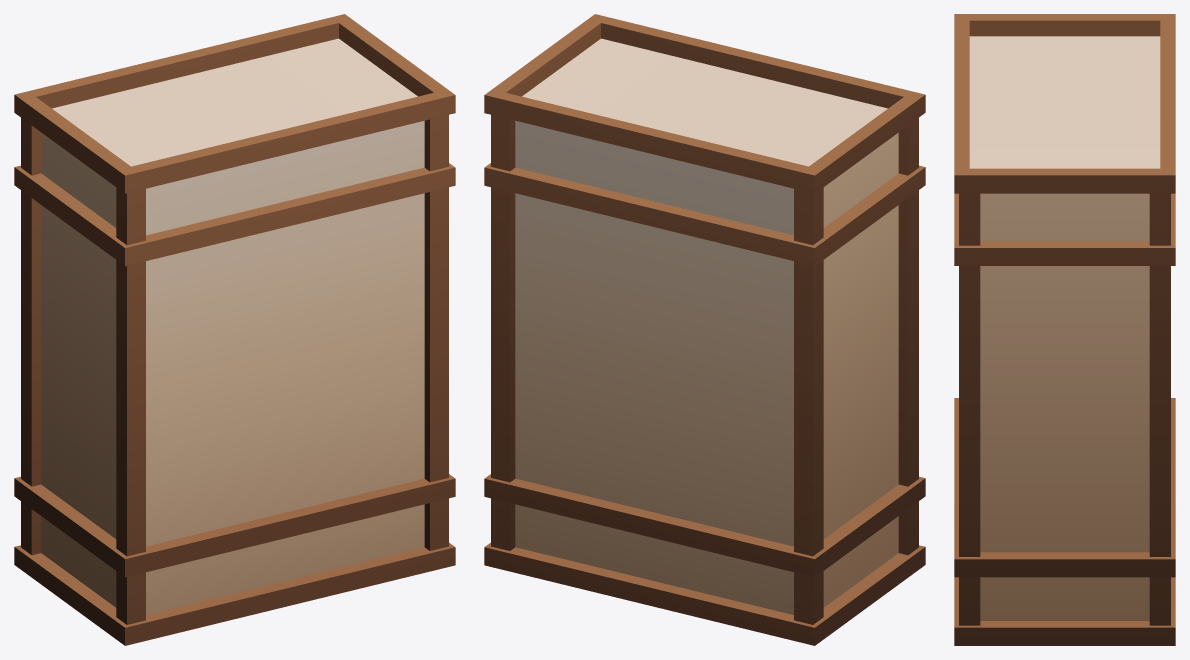
Rendered from SK_Lamp_003.FBX.
3 views of the same model, side by side, from view 1: azimuth 30°, elevation 25°; view 2: azimuth 150°, elevation 25°; view 3: azimuth 270°, elevation 25° (orthographic).
Visible parts, largest first — view 1: SK_Lamp_003_light, SK_Lamp_003; view 2: SK_Lamp_003_light, SK_Lamp_003; view 3: SK_Lamp_003_light, SK_Lamp_003.
Boxes of the visible parts, left/top/right/bottom form: SK_Lamp_003_light: left=41, top=38, right=424, bottom=614; SK_Lamp_003: left=14, top=14, right=455, bottom=645; SK_Lamp_003_light: left=515, top=38, right=898, bottom=614; SK_Lamp_003: left=484, top=14, right=925, bottom=645; SK_Lamp_003_light: left=969, top=36, right=1160, bottom=620; SK_Lamp_003: left=954, top=14, right=1175, bottom=645.
Bounding box in the file's own units: 21.31 × 28.99 × 12.37.
